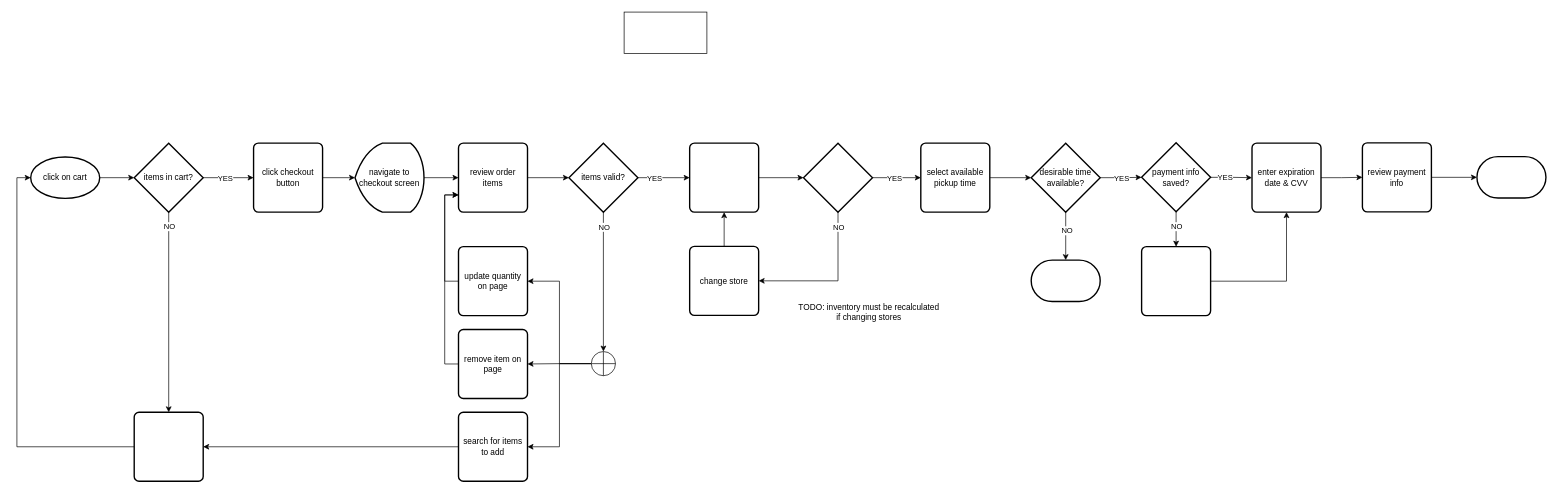
This 1559x494 diagram has some shape labels left out. Each missing label, with the box of its shape:
abandon checkout: (1030, 259, 1101, 302)
browse catalog for items: (133, 411, 204, 482)
Checkout flow: (623, 11, 707, 53)
click order button: (1476, 156, 1546, 198)
enter other payment info: (1141, 246, 1211, 316)
review store location: (689, 142, 759, 213)
store valid?: (802, 142, 873, 213)
